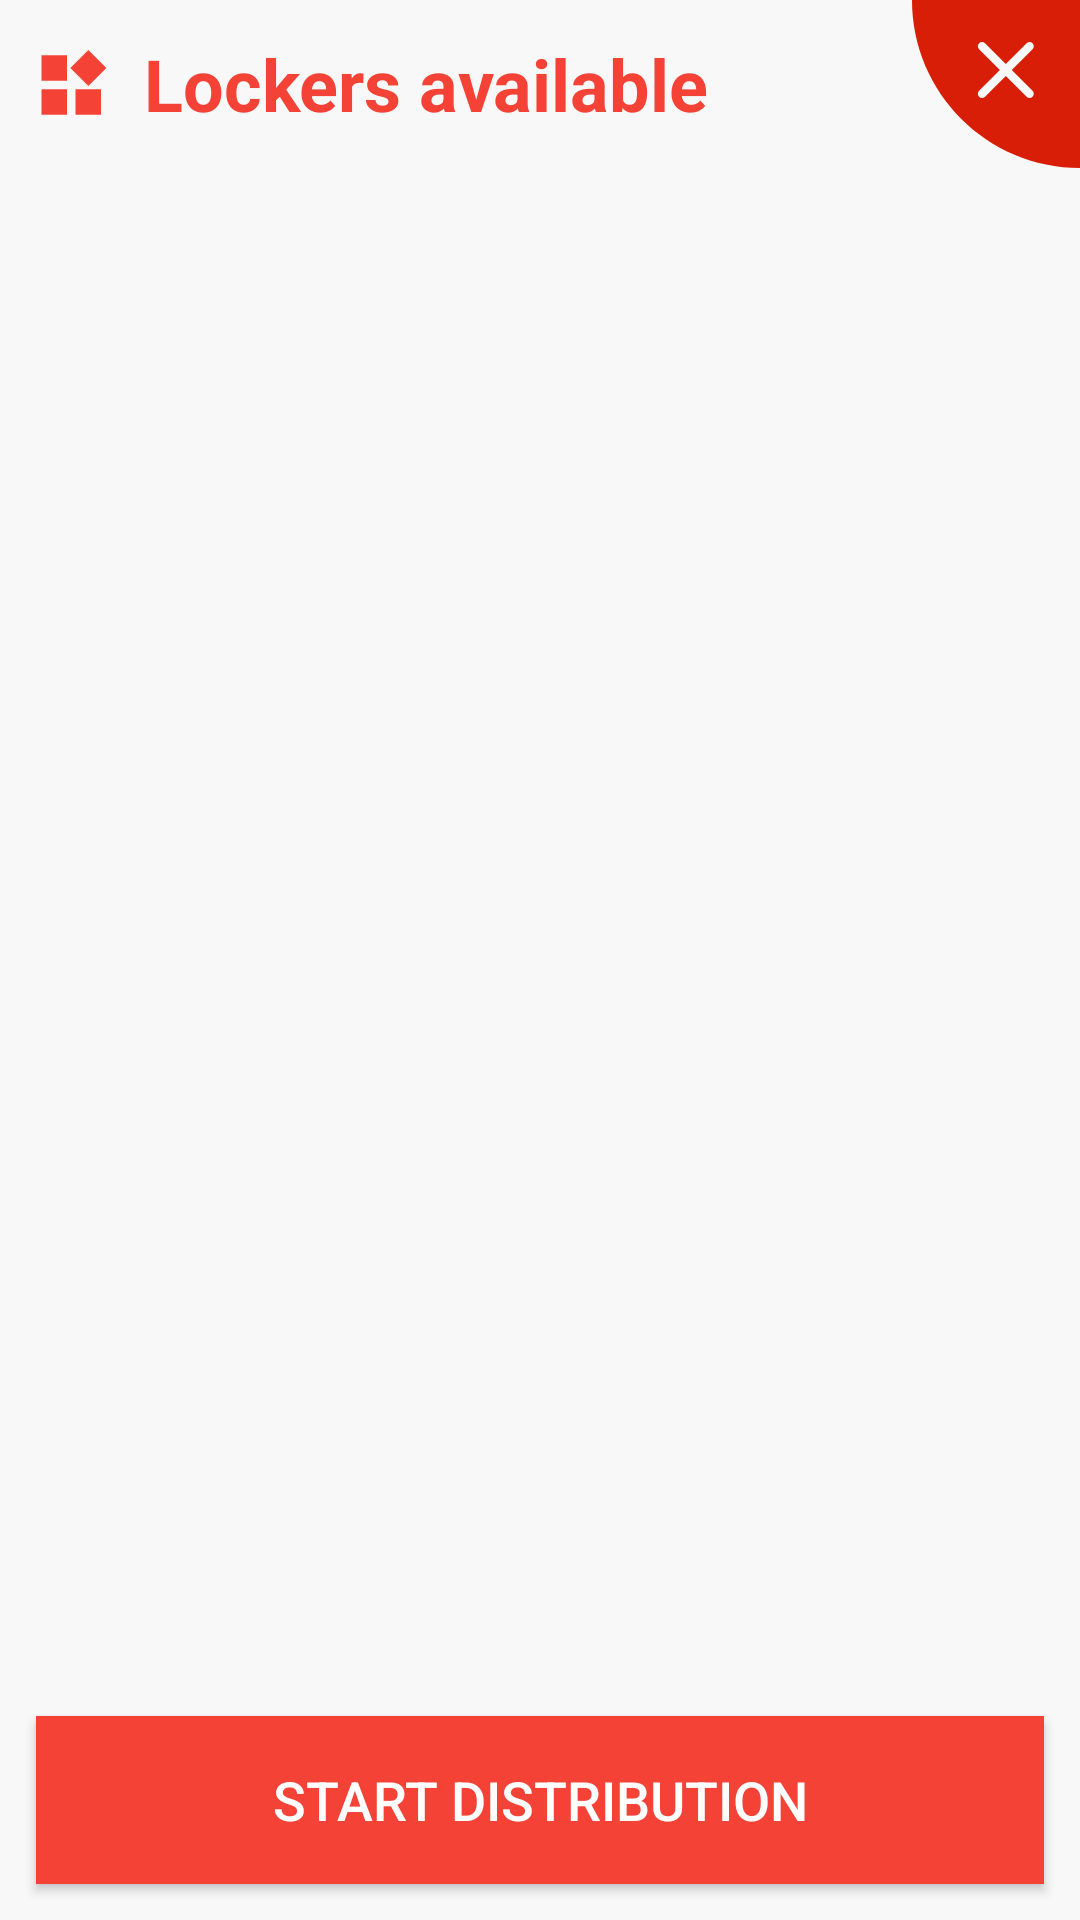

Locate icon controls on the screen. Image size 1080px x 1920px, boxes as [left=x1, top=y1, right=x2, bottom=y2].
close: [left=912, top=0, right=1080, bottom=168]
